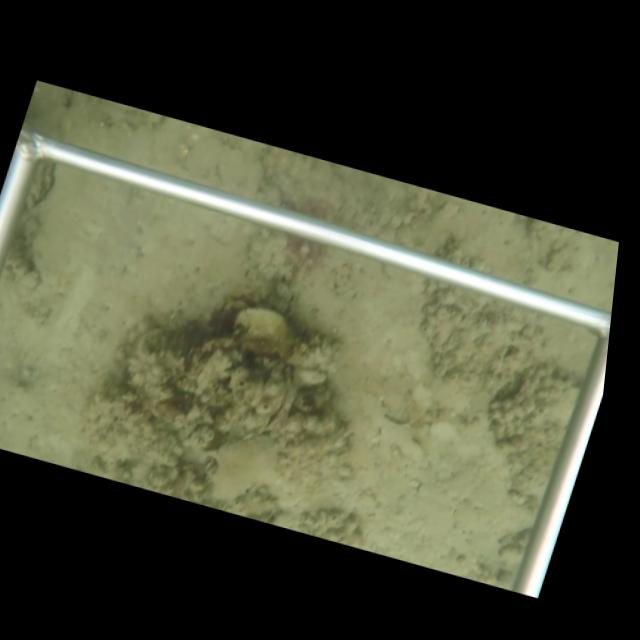Oyster-Indeterminate: (182, 138, 283, 205), (228, 304, 300, 352)
